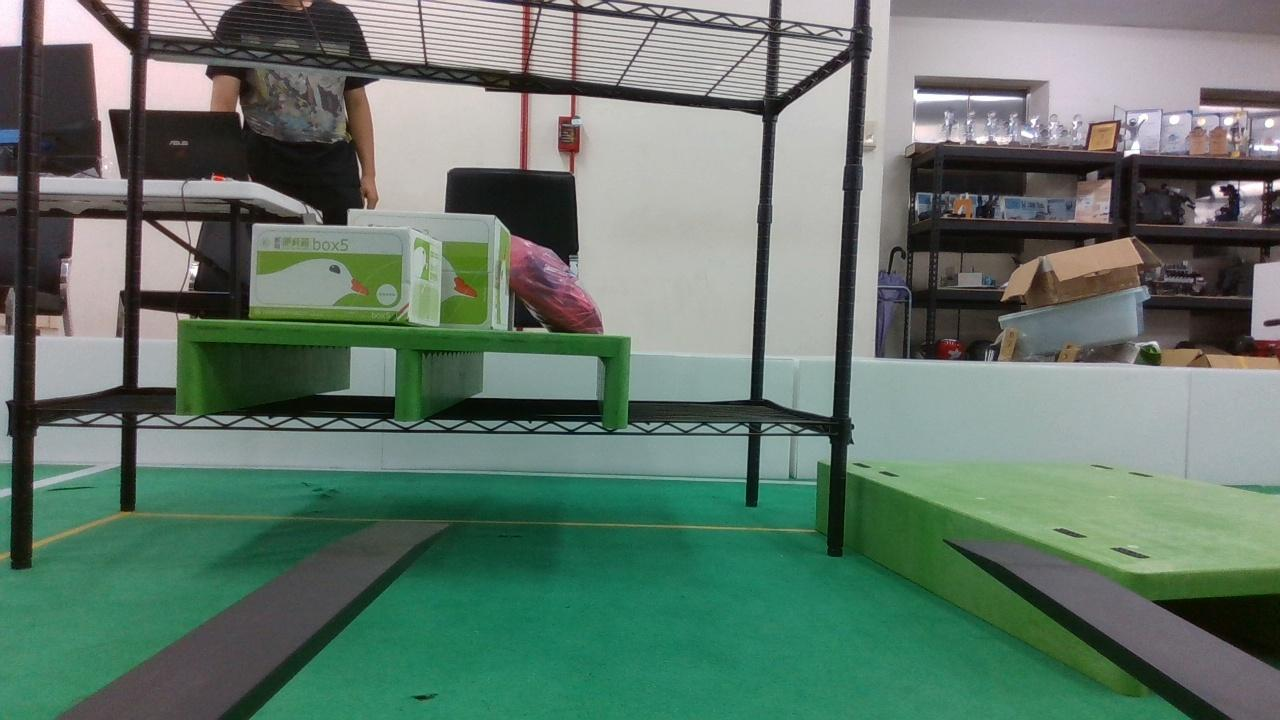Pallet: (177, 320, 630, 427)
